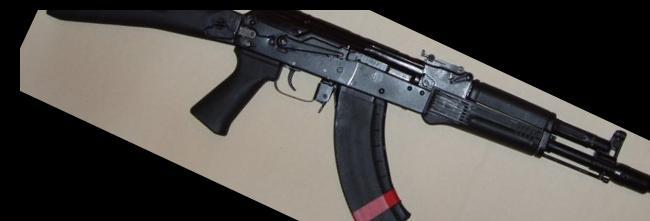larga: (49, 8, 650, 221)
